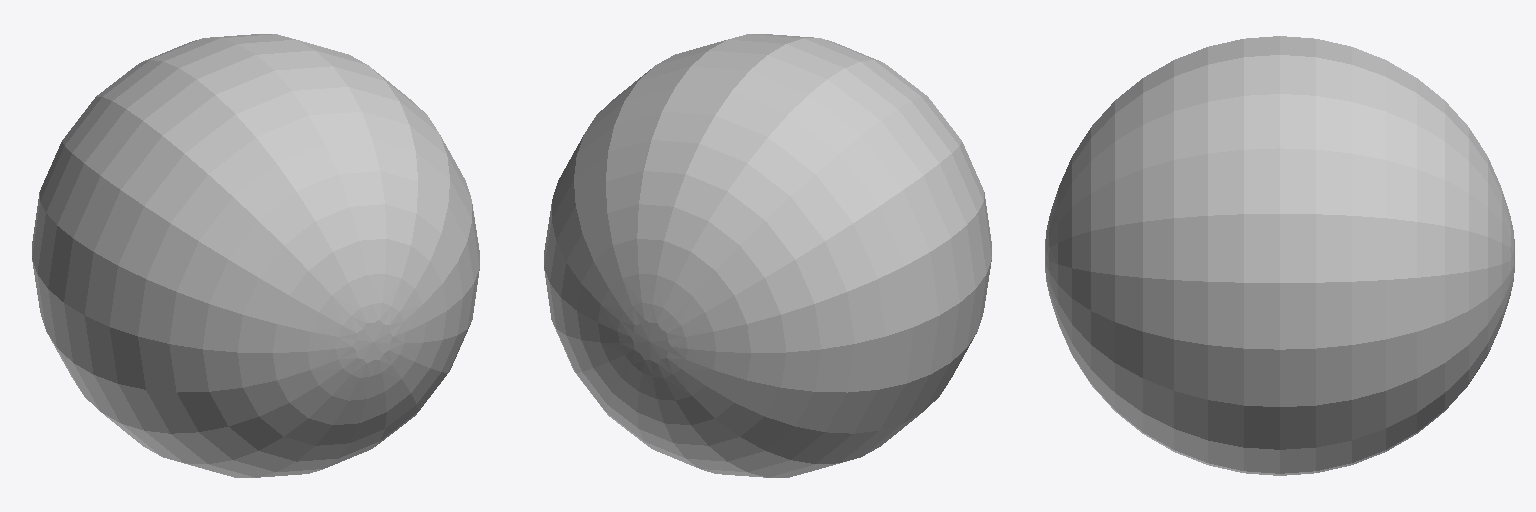
The model's file is CupEyesForDeathScreen_CupEyeR.obj.
3 views of the same model, side by side, from view 1: azimuth 30°, elevation 25°; view 2: azimuth 150°, elevation 25°; view 3: azimuth 270°, elevation 25° (orthographic).
Parts seen in each view (by area): view 1: CupEyesForDeathScreen_CupEyeR; view 2: CupEyesForDeathScreen_CupEyeR; view 3: CupEyesForDeathScreen_CupEyeR.
Boxes of the visible parts, box(x1,y1,x2,y2) form: CupEyesForDeathScreen_CupEyeR: box(32, 34, 479, 477); CupEyesForDeathScreen_CupEyeR: box(544, 34, 991, 477); CupEyesForDeathScreen_CupEyeR: box(1045, 36, 1514, 475).
Size of the model in its own units: 9.2 by 9.21 by 9.77.